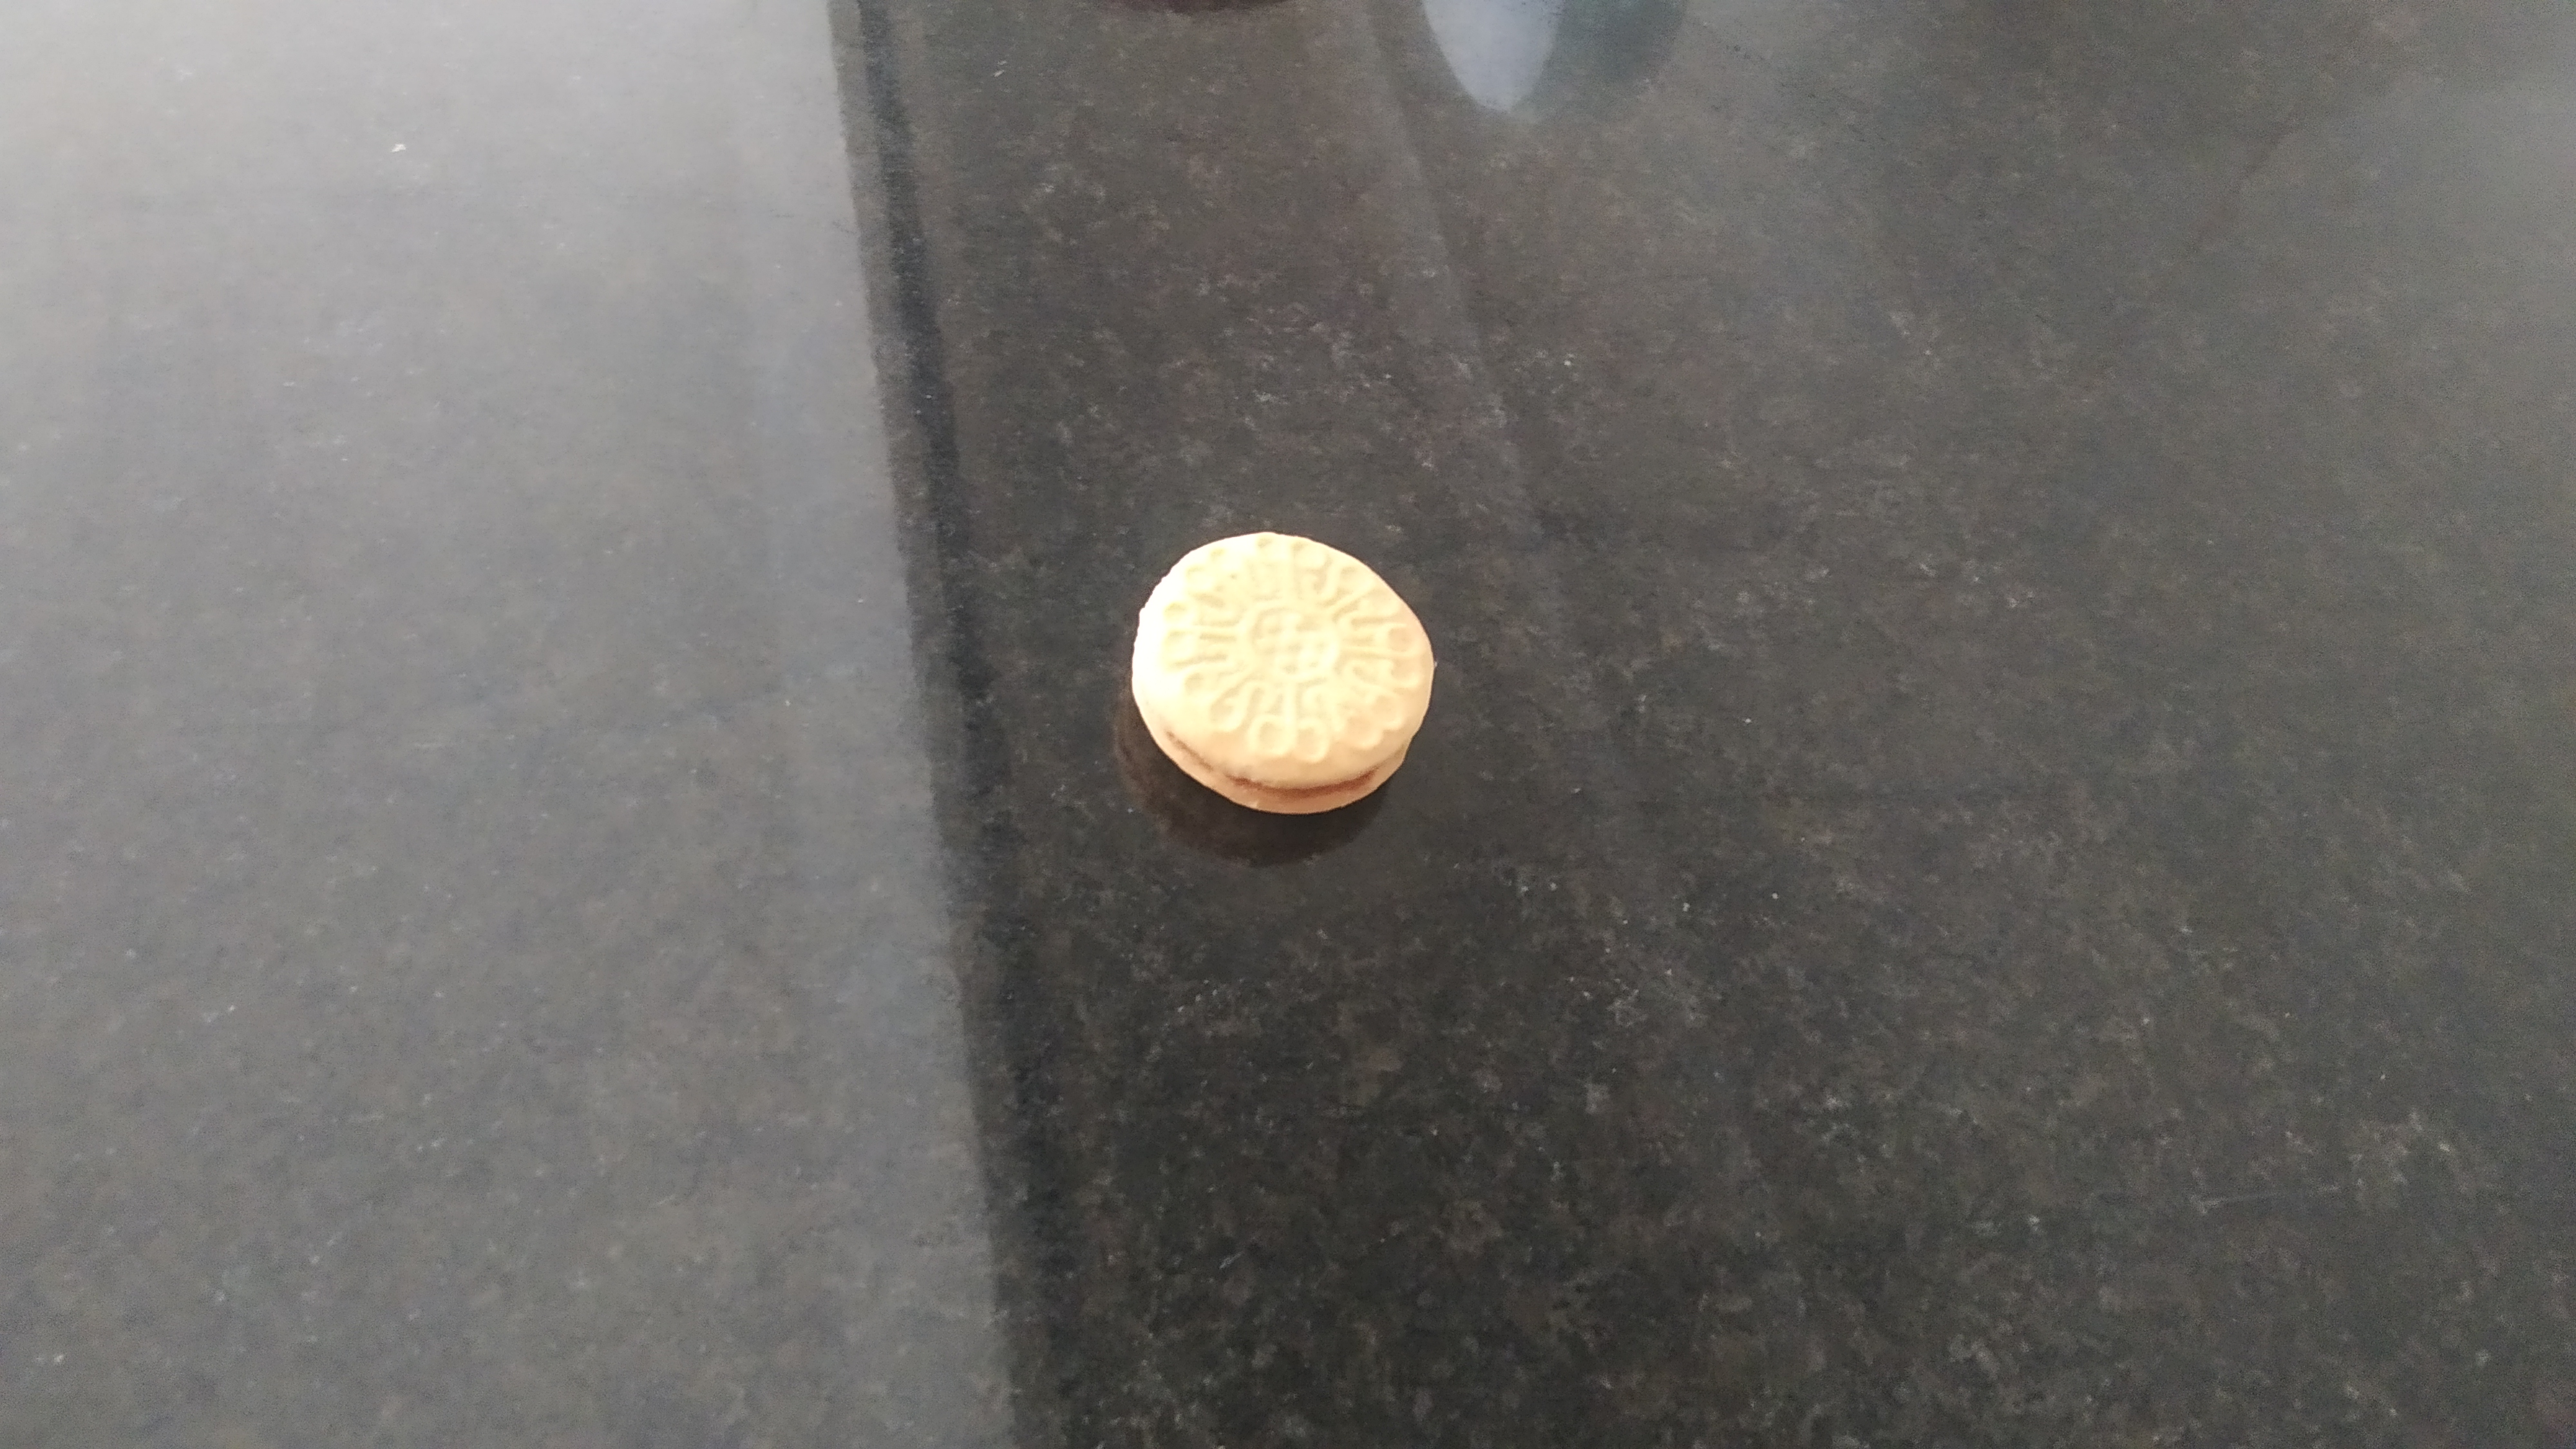lulu: (1129, 529, 1437, 816)
